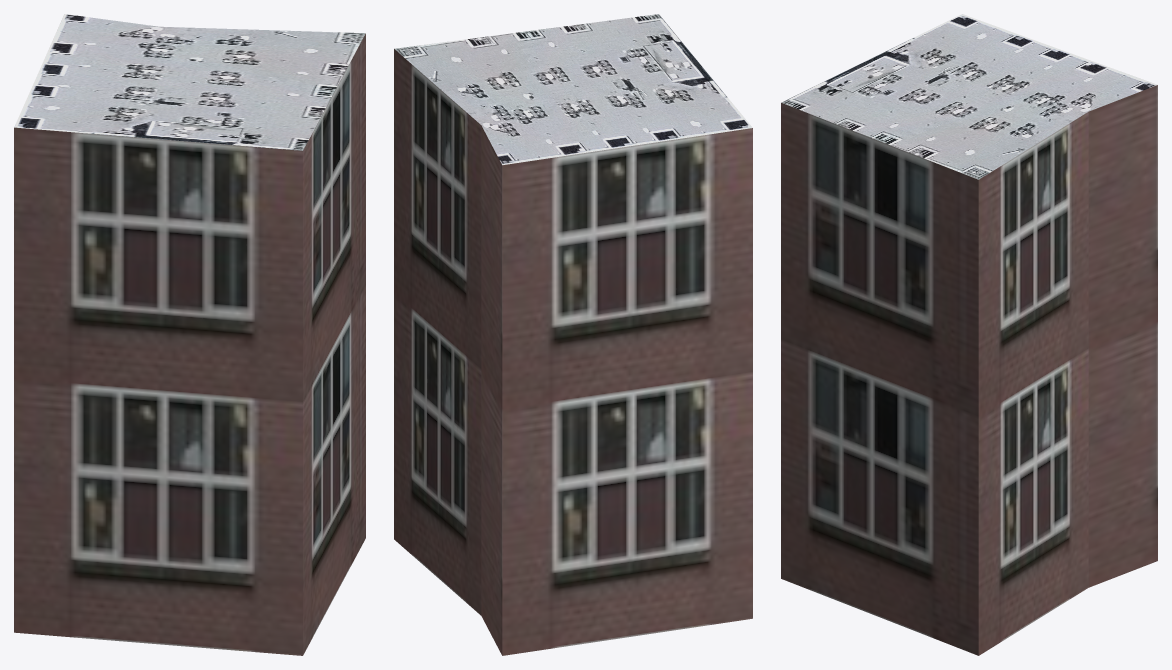
Rendered from ResTex__1850.fbx.
The picture shows the model from 3 angles, left to right: view 1: azimuth 30°, elevation 25°; view 2: azimuth 150°, elevation 25°; view 3: azimuth 270°, elevation 25°; orthographic projection. The views are drawn at different scales.
Visible parts, largest first — view 1: CityEngineMaterial_12_m, CityEngineMaterial_4_m; view 2: CityEngineMaterial_12_m, CityEngineMaterial_4_m; view 3: CityEngineMaterial_12_m, CityEngineMaterial_4_m.
Boxes of the visible parts, bbox=[...] form: CityEngineMaterial_12_m: bbox=[14, 33, 365, 655]; CityEngineMaterial_4_m: bbox=[14, 14, 365, 150]; CityEngineMaterial_12_m: bbox=[394, 49, 752, 655]; CityEngineMaterial_4_m: bbox=[394, 14, 752, 165]; CityEngineMaterial_12_m: bbox=[781, 85, 1157, 655]; CityEngineMaterial_4_m: bbox=[781, 14, 1157, 179].
Size of the model in its own units: 4.48 by 6 by 4.3.
2 materials, 2 textured.
